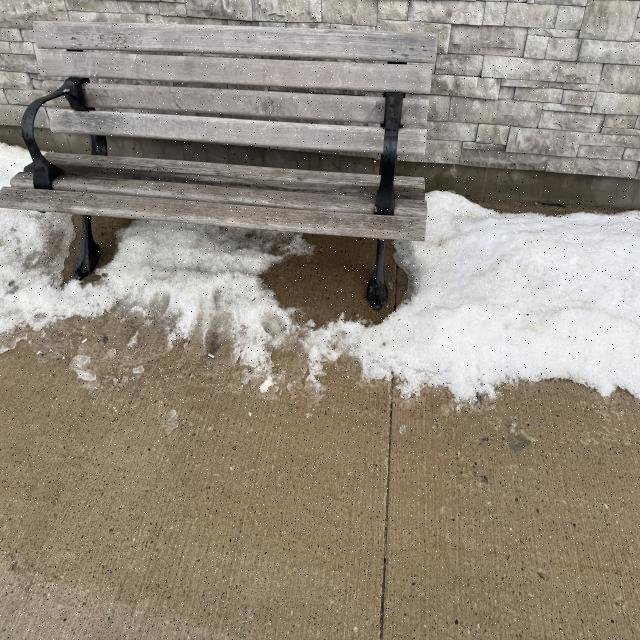Bench: (0, 27, 445, 301)
